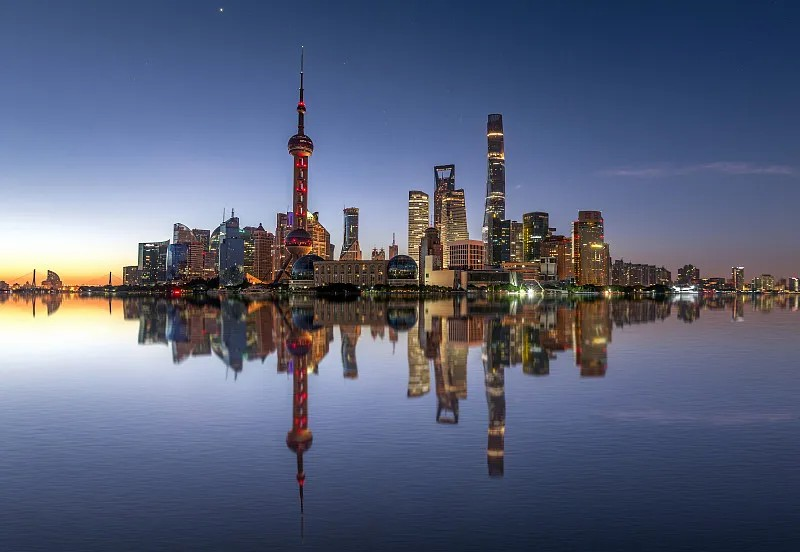Oriental: (274, 43, 314, 284)
